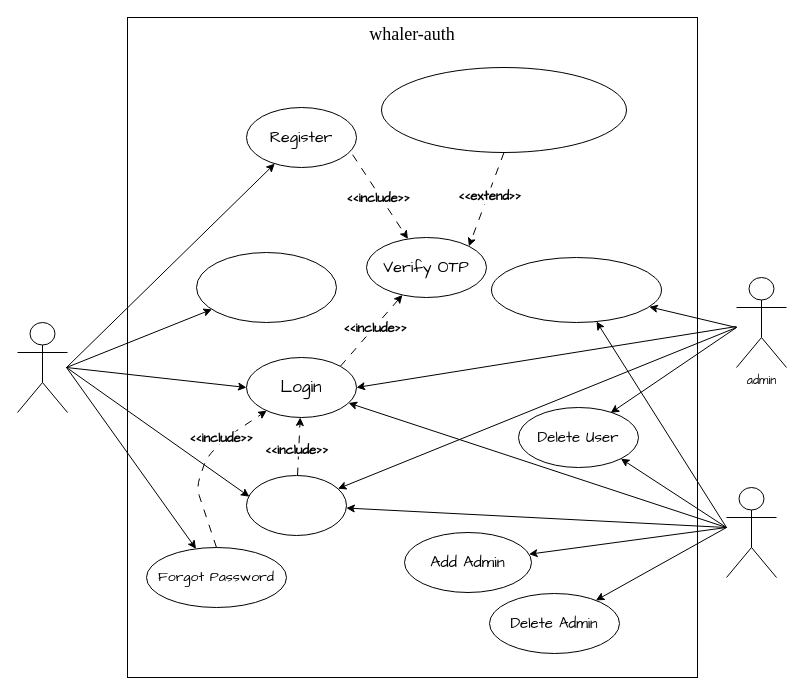
Image size: 804x695. Some labels were removed from this diagram. The box of each missing label's shape, as (x1, y1, x2, y2) in pixels:
Logout: (246, 474, 346, 536)
master: (726, 486, 776, 578)
Notify successful Verification: (380, 66, 626, 152)
Refresh JWT: (196, 252, 336, 322)
user: (16, 322, 68, 412)
Watch Online Users: (490, 256, 662, 322)
